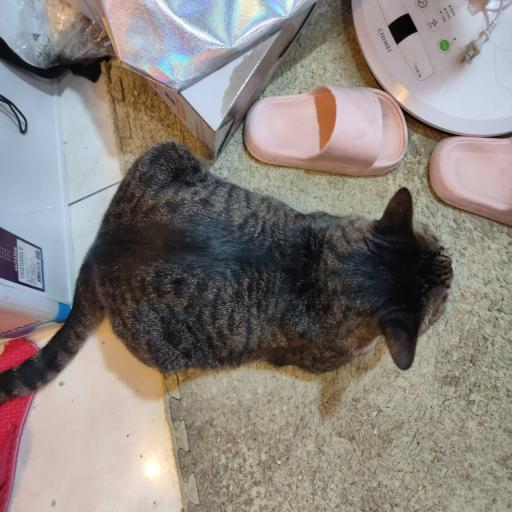cat: (76, 178, 446, 374)
